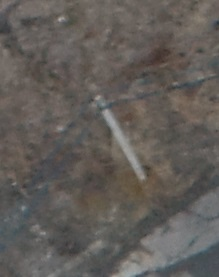opora: (92, 88, 151, 184)
